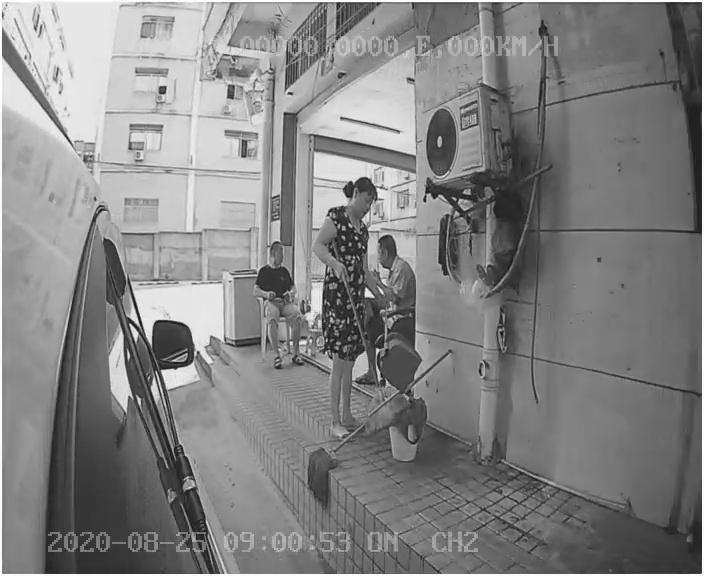person: (307, 177, 381, 405)
